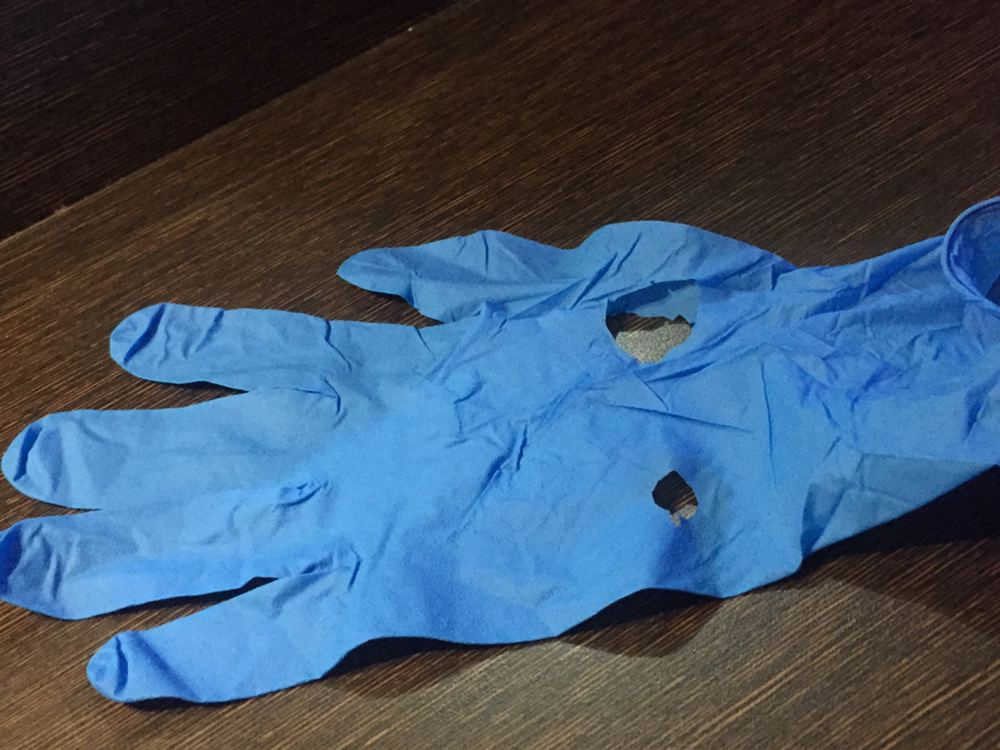defected: (8, 186, 984, 746)
